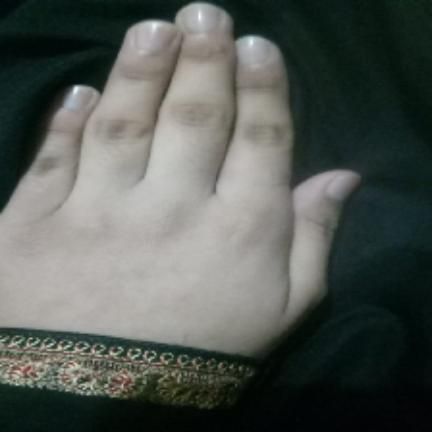Nail: (134, 21, 177, 56), (178, 2, 220, 34), (326, 170, 362, 201), (237, 36, 270, 66), (63, 85, 95, 110)
